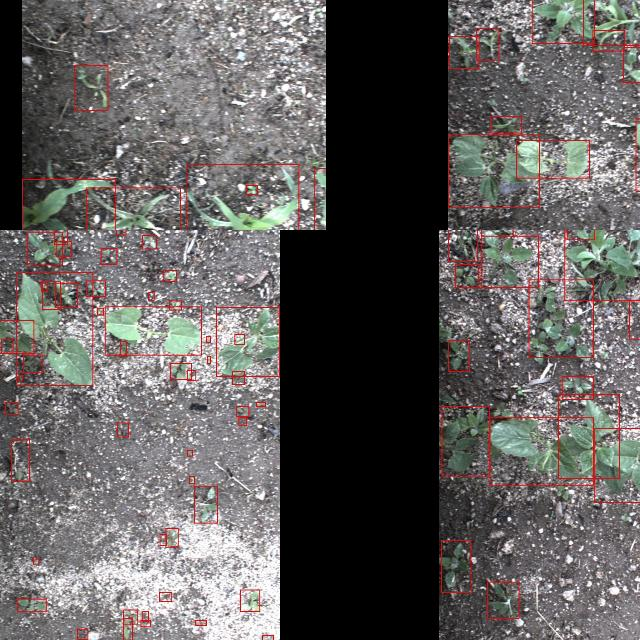crop: (16, 272, 92, 386), (187, 164, 299, 230), (489, 418, 593, 484), (448, 135, 538, 207), (558, 394, 620, 478), (21, 179, 114, 230), (105, 307, 201, 355), (217, 308, 280, 377), (86, 188, 180, 230), (594, 428, 640, 502), (516, 140, 588, 178), (0, 320, 33, 353)
weed: (564, 230, 640, 300), (528, 280, 594, 356), (441, 406, 489, 476), (482, 236, 538, 288), (531, 0, 594, 43), (583, 0, 640, 45), (441, 540, 471, 592), (74, 66, 108, 110), (487, 582, 519, 618), (28, 232, 62, 264), (449, 36, 479, 68), (447, 230, 476, 261), (195, 486, 218, 522), (11, 439, 29, 481), (476, 28, 498, 60), (562, 376, 592, 399), (593, 30, 625, 51), (448, 341, 468, 372), (623, 47, 640, 82), (454, 264, 478, 288), (491, 116, 522, 134), (55, 283, 77, 307), (42, 281, 60, 309), (240, 590, 260, 612), (16, 598, 46, 612), (630, 299, 640, 338), (22, 355, 42, 373), (170, 363, 192, 379), (86, 281, 105, 297), (101, 248, 117, 264), (567, 230, 595, 239), (166, 528, 178, 548), (122, 610, 138, 624), (56, 242, 70, 256), (54, 230, 68, 244), (142, 235, 156, 249), (481, 230, 513, 236), (124, 618, 132, 640), (117, 423, 129, 437), (5, 402, 18, 414), (1, 339, 12, 353), (233, 372, 245, 384), (164, 270, 176, 282), (237, 406, 250, 416), (246, 185, 258, 195), (160, 592, 172, 602), (169, 300, 181, 310), (77, 629, 87, 639), (235, 334, 245, 344), (187, 370, 196, 380), (120, 342, 126, 356), (160, 534, 166, 546), (196, 620, 207, 626), (239, 417, 247, 425), (140, 620, 150, 626), (142, 611, 148, 621), (41, 281, 47, 291), (262, 635, 273, 640), (148, 292, 154, 300), (256, 402, 266, 406), (116, 230, 126, 234), (33, 558, 39, 564), (187, 450, 193, 456), (97, 308, 103, 314), (190, 476, 194, 484), (207, 336, 211, 342), (208, 356, 210, 364), (18, 376, 22, 380)
